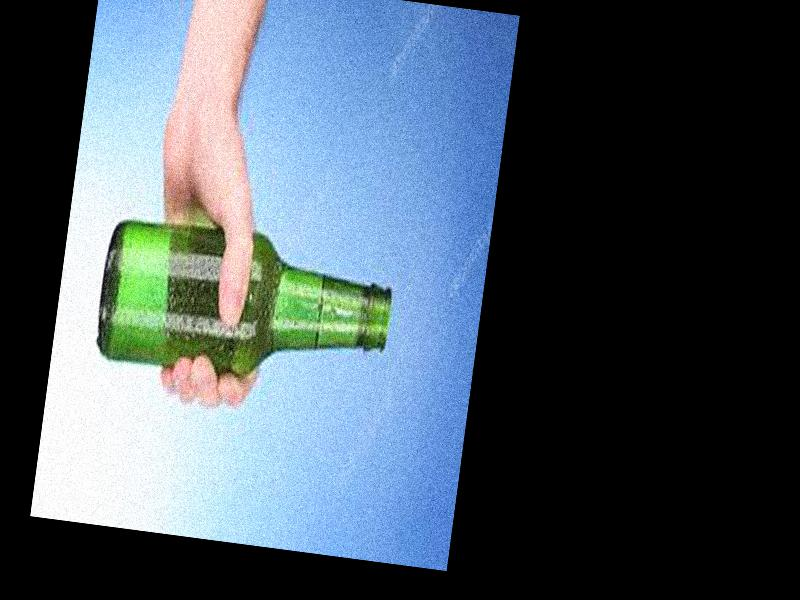Beer: (92, 217, 398, 392)
